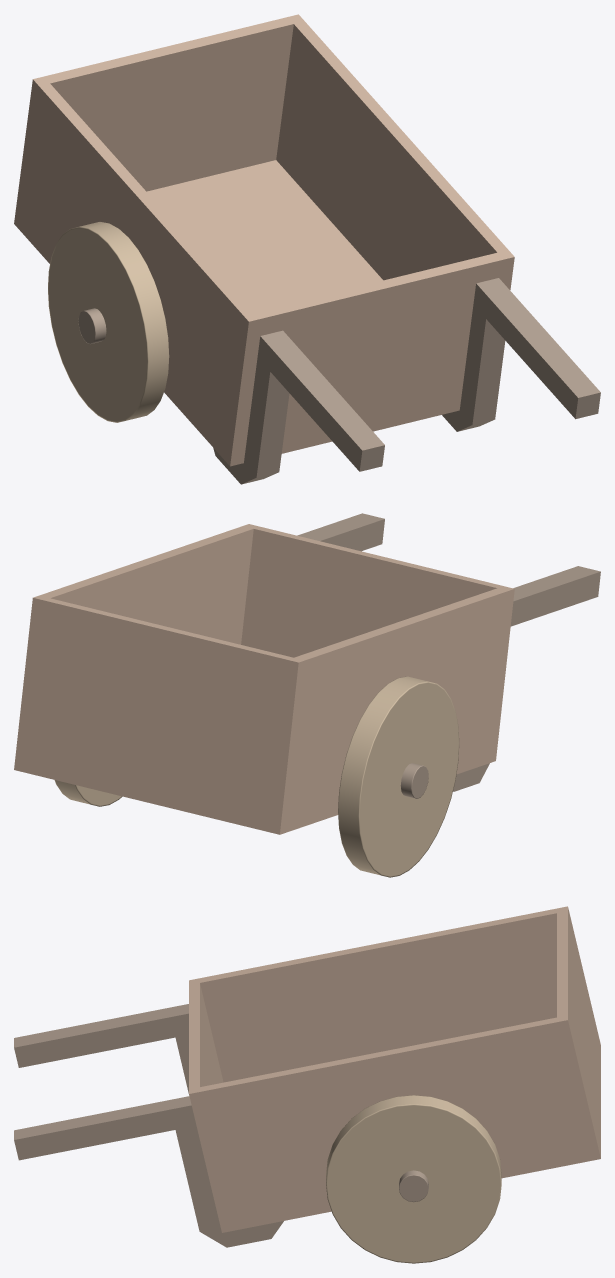
Rendered from Transport Cart.fbx.
The picture shows the model from 3 angles, top to bottom: view 1: azimuth 30°, elevation 25°; view 2: azimuth 150°, elevation 25°; view 3: azimuth 270°, elevation 25°; orthographic projection. The views are drawn at different scales.
Parts seen in each view (by area): view 1: Transport Cart, Handles, Wheels; view 2: Transport Cart, Wheels, Handles; view 3: Transport Cart, Wheels, Handles.
Boxes of the visible parts, box(x1,y1,x2,y2) form: Transport Cart: box(14, 14, 514, 466); Handles: box(213, 278, 600, 484); Wheels: box(48, 222, 169, 422); Transport Cart: box(14, 524, 514, 834); Wheels: box(54, 676, 459, 877); Handles: box(297, 513, 600, 791); Transport Cart: box(189, 906, 600, 1232); Wheels: box(326, 1095, 501, 1263); Handles: box(14, 1004, 283, 1247).
Size of the model in its own units: 1.63 by 1.24 by 2.83.
